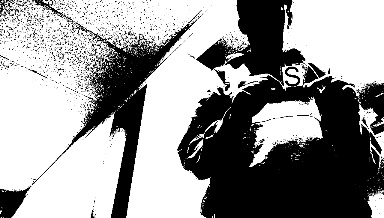S: (282, 65, 302, 86)
